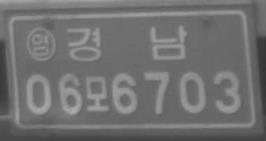0: (179, 71, 207, 115), (25, 72, 52, 115)
3: (213, 69, 241, 114)
6: (110, 71, 138, 115), (57, 72, 83, 115)
7: (144, 70, 169, 114)
경남_D: (67, 24, 188, 63)
모: (84, 74, 110, 112)
영: (25, 26, 57, 61)
